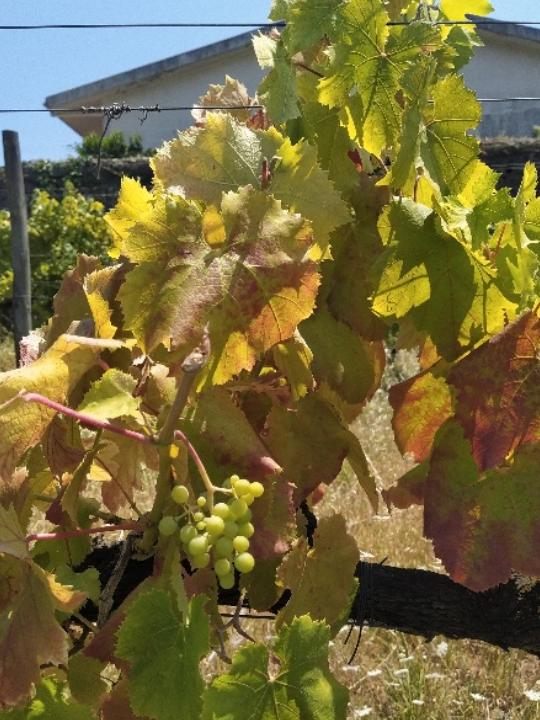grape: (158, 470, 268, 590)
